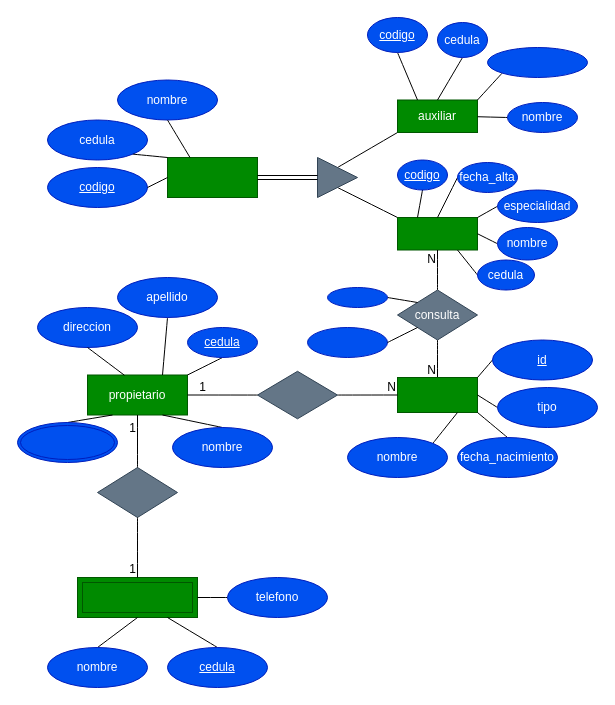
Image size: 615x705. Some labels were removed from this diagram. The centre of each missing label's shape, as x and y in pixels:
base_cotizacion: point (537, 62)
contacto_familiar: point (137, 597)
diagnostico: point (347, 342)
fecha: point (357, 297)
llevar: point (297, 394)
mascota: point (437, 394)
personal: point (212, 177)
telefonos: point (67, 442)
tiene: point (137, 492)
veterinario: point (437, 233)
